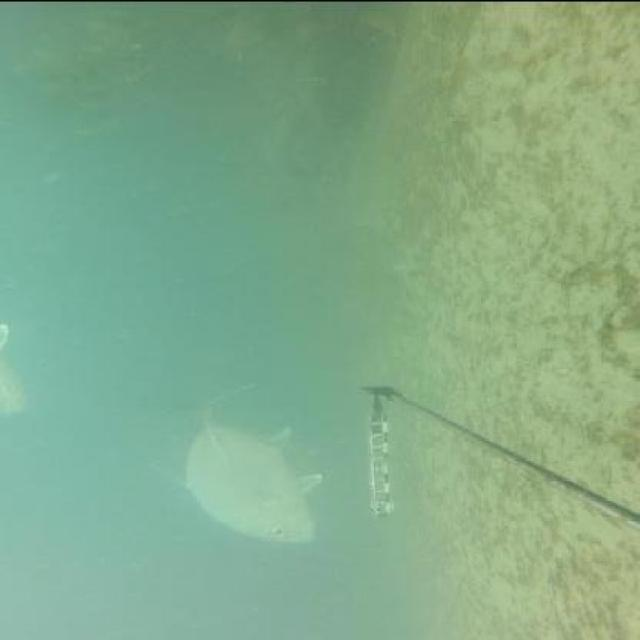Caranx: (138, 380, 324, 542)
